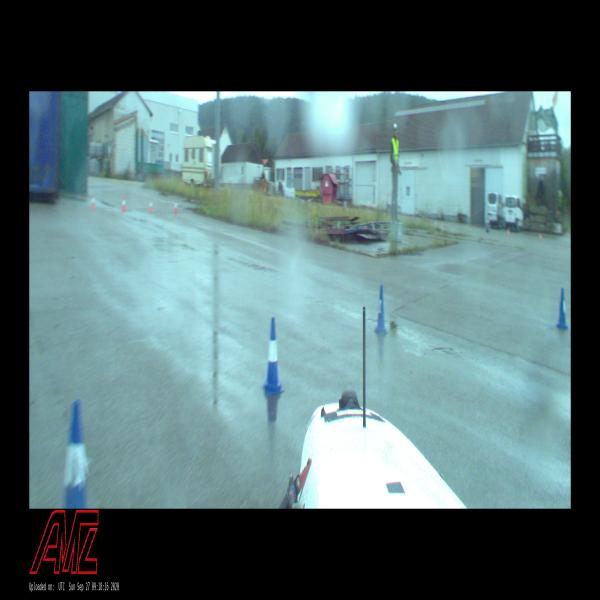blue_cone: (63, 398, 88, 509), (262, 317, 284, 395), (374, 285, 387, 333), (556, 288, 569, 330)
